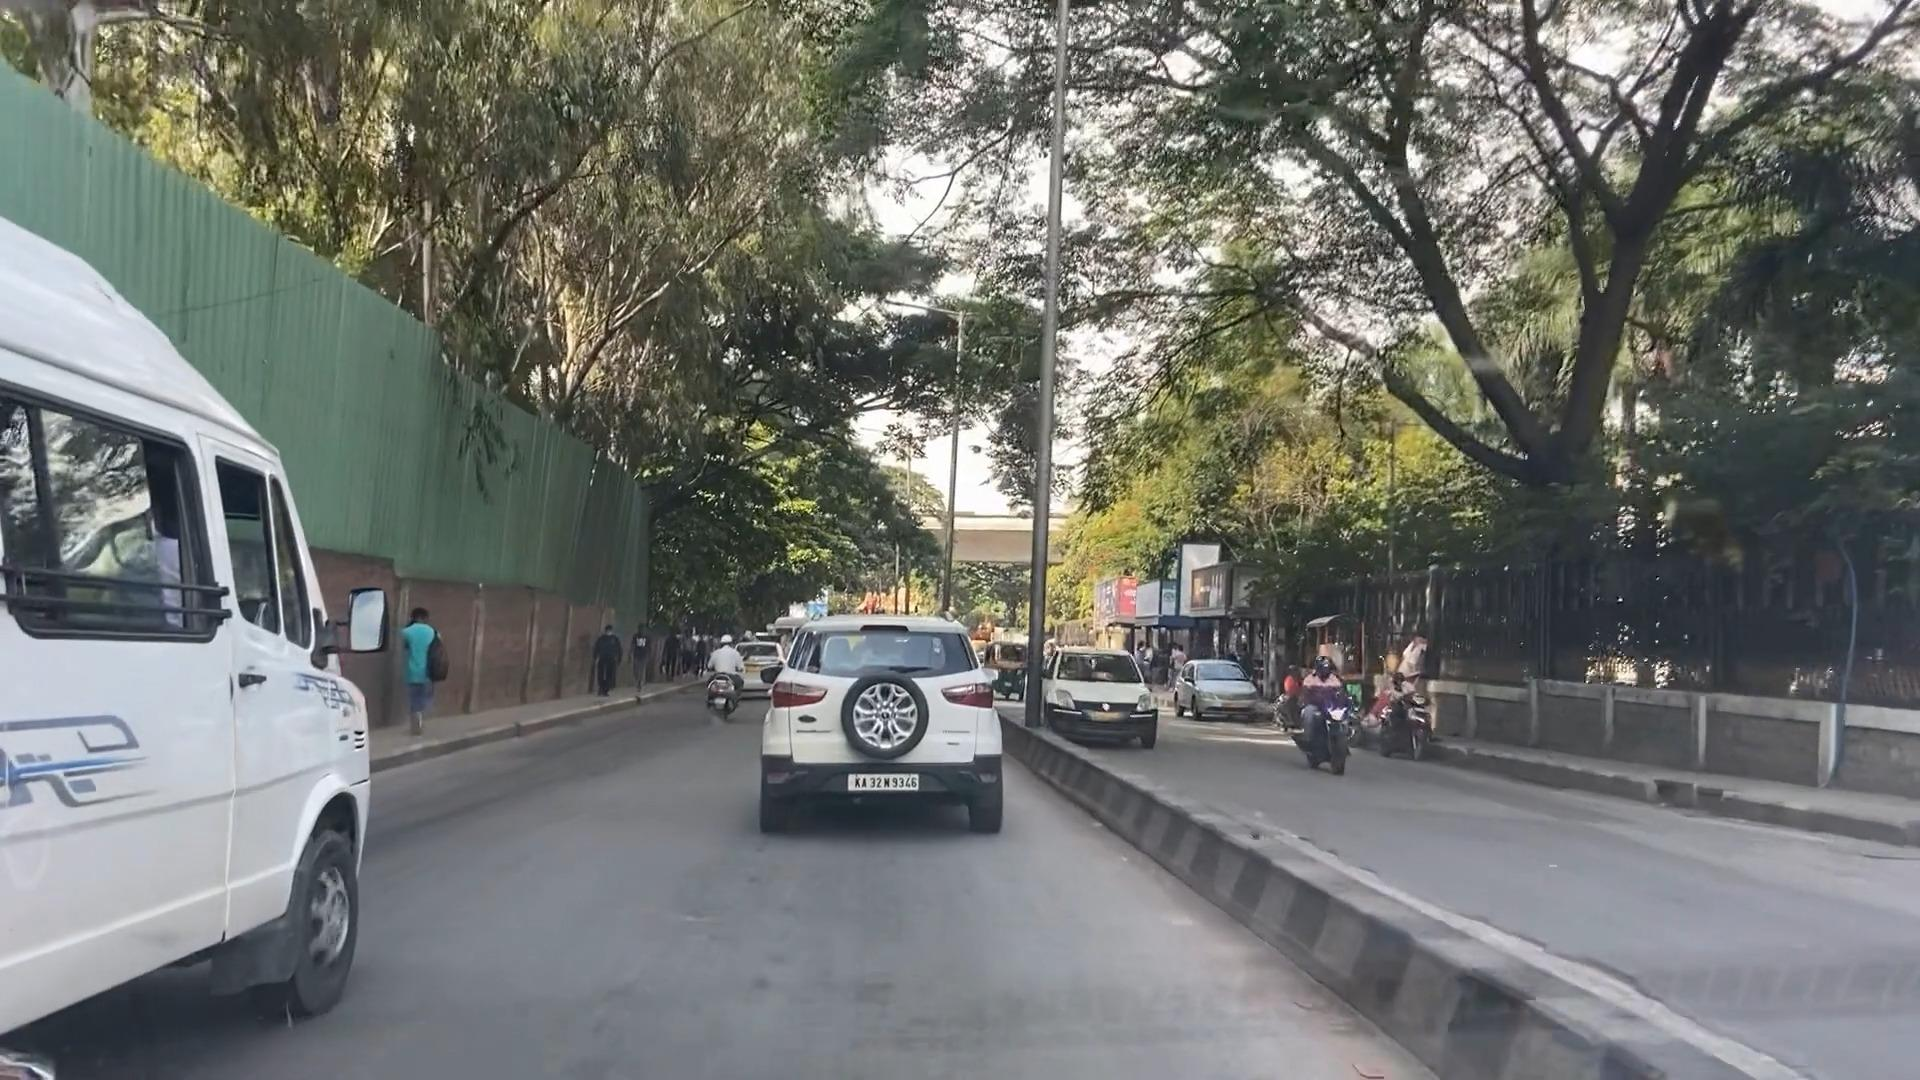HMV: (0, 208, 401, 1064)
LMV: (748, 605, 1013, 839)
